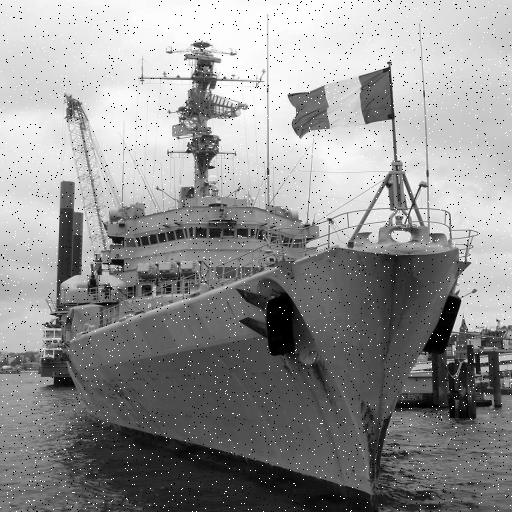Portanaves: (50, 40, 464, 512)
